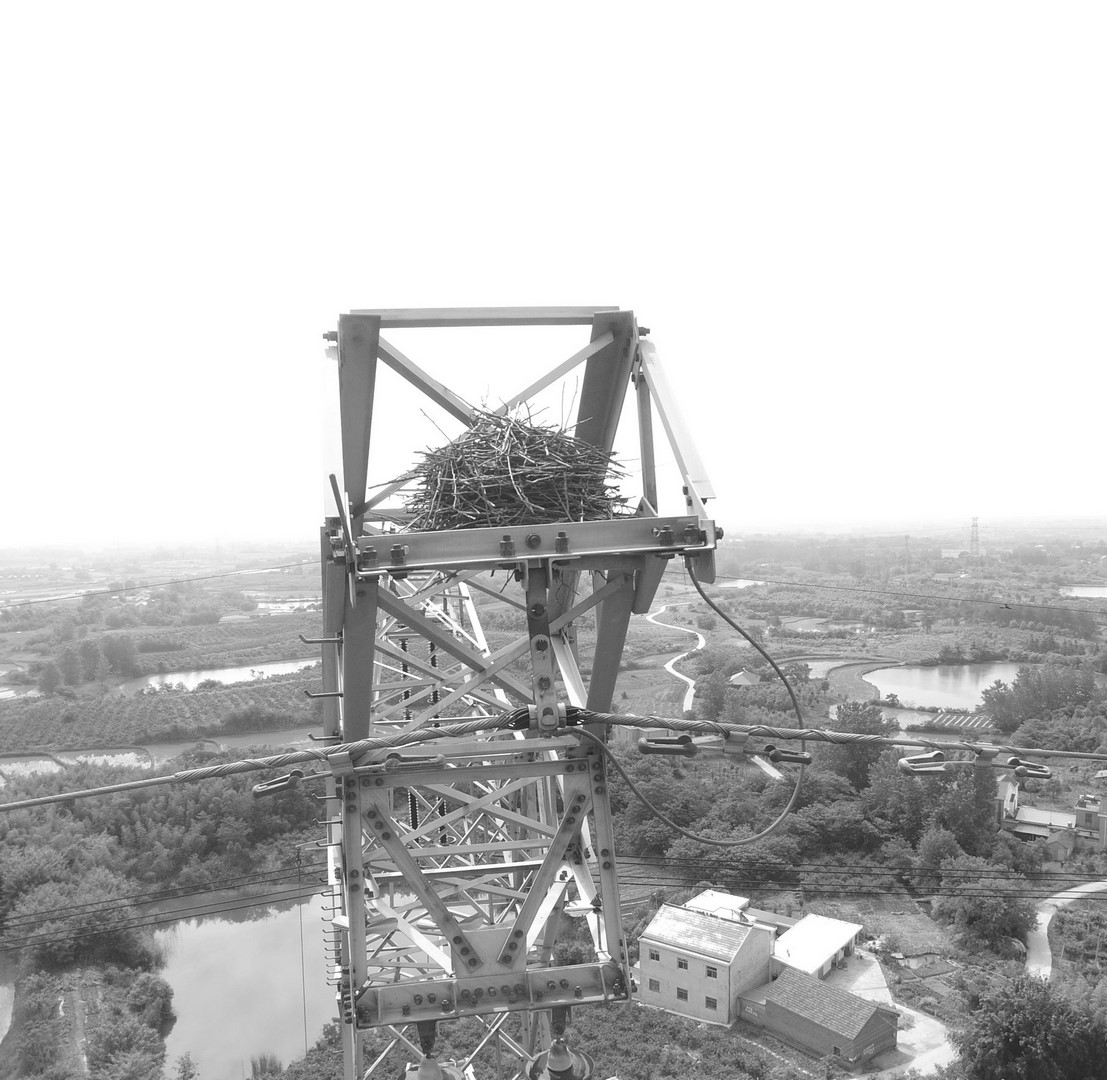niaowo: (389, 396, 635, 547)
